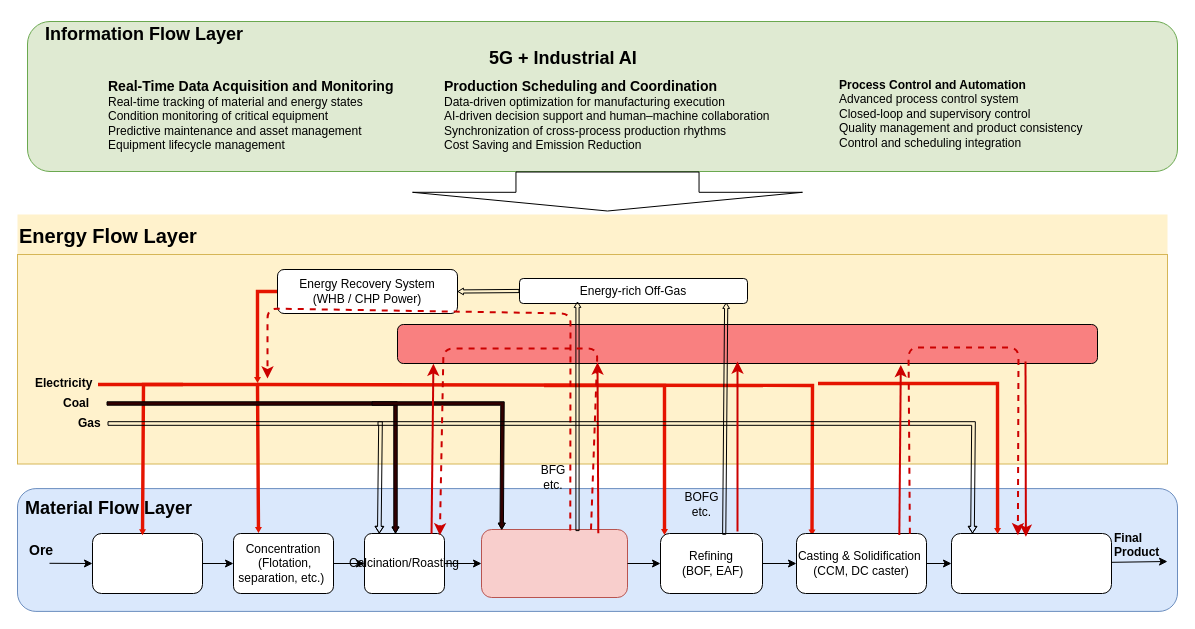
This 1195x629 diagram has some shape labels left out. The shapes that lost their labels are listed below. From the top down, each one's centre as x and y in pixels, then its label:
At [747,344]: "Heat and Waste Heat".
At [147,563]: "Comminution (Crushing & Grinding)".
At [554,563]: "Smelting and Reduction (BF, SAF, Electrometallurgy)".
At [1031,563]: "Forming and Rolling (Hot/Cold Rolling Mills, forging/extrusion machines)".
